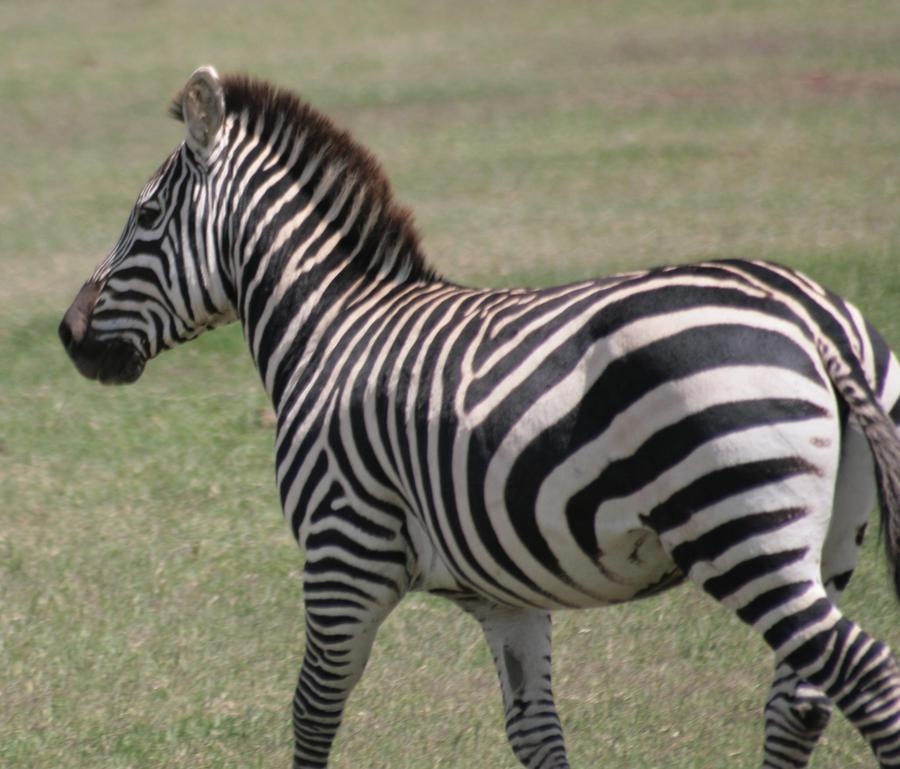zebra_plains: (297, 267, 826, 601)
